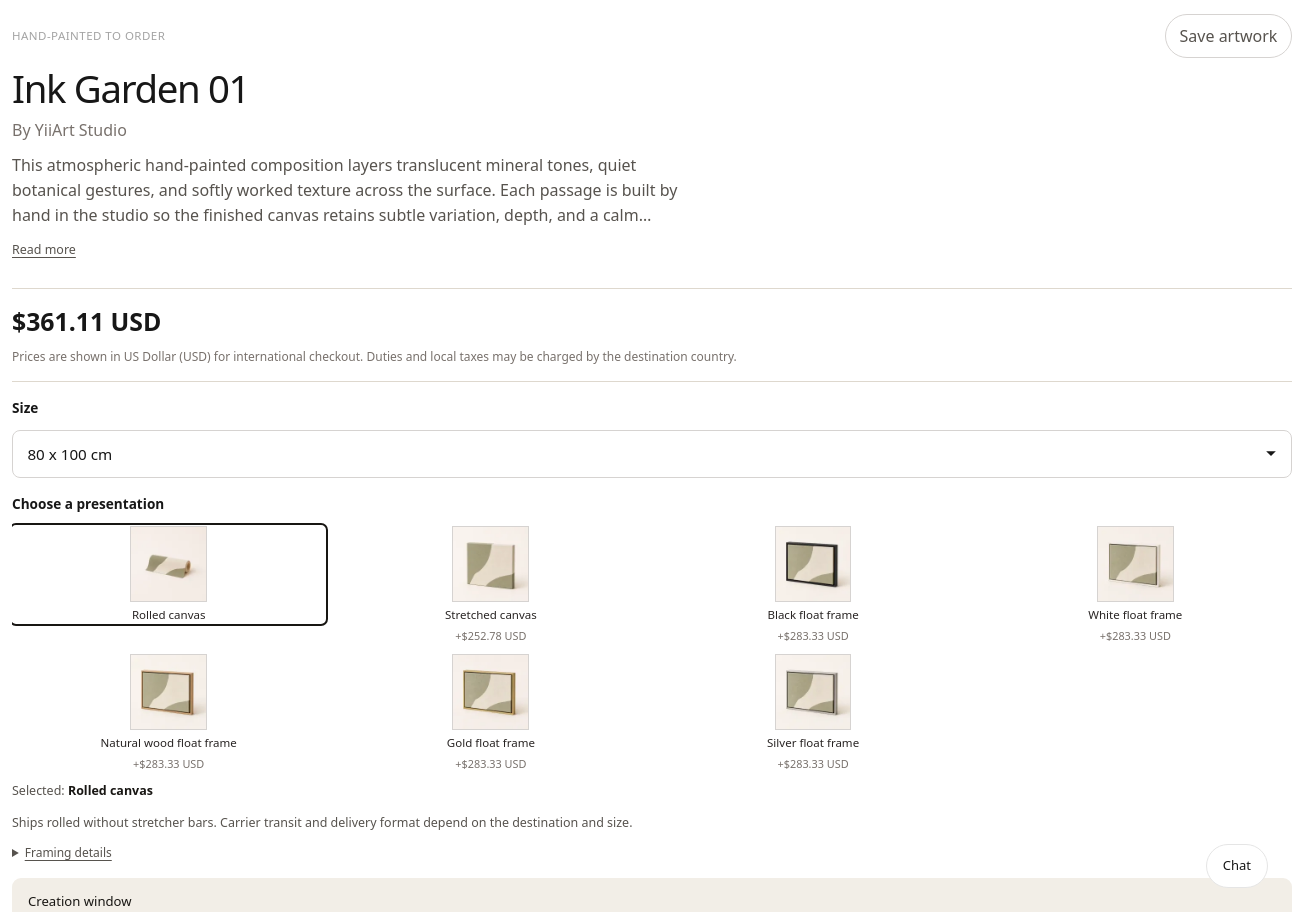
Scenario: purchase overlay integration › expands a long product description with an accessible disclosure control
The image size is (1292, 912).
What coordinates should you click on to do the following:
click the button "Read more"
I would click on:
 (44, 250)
Its box is 12,228 -> 76,272.
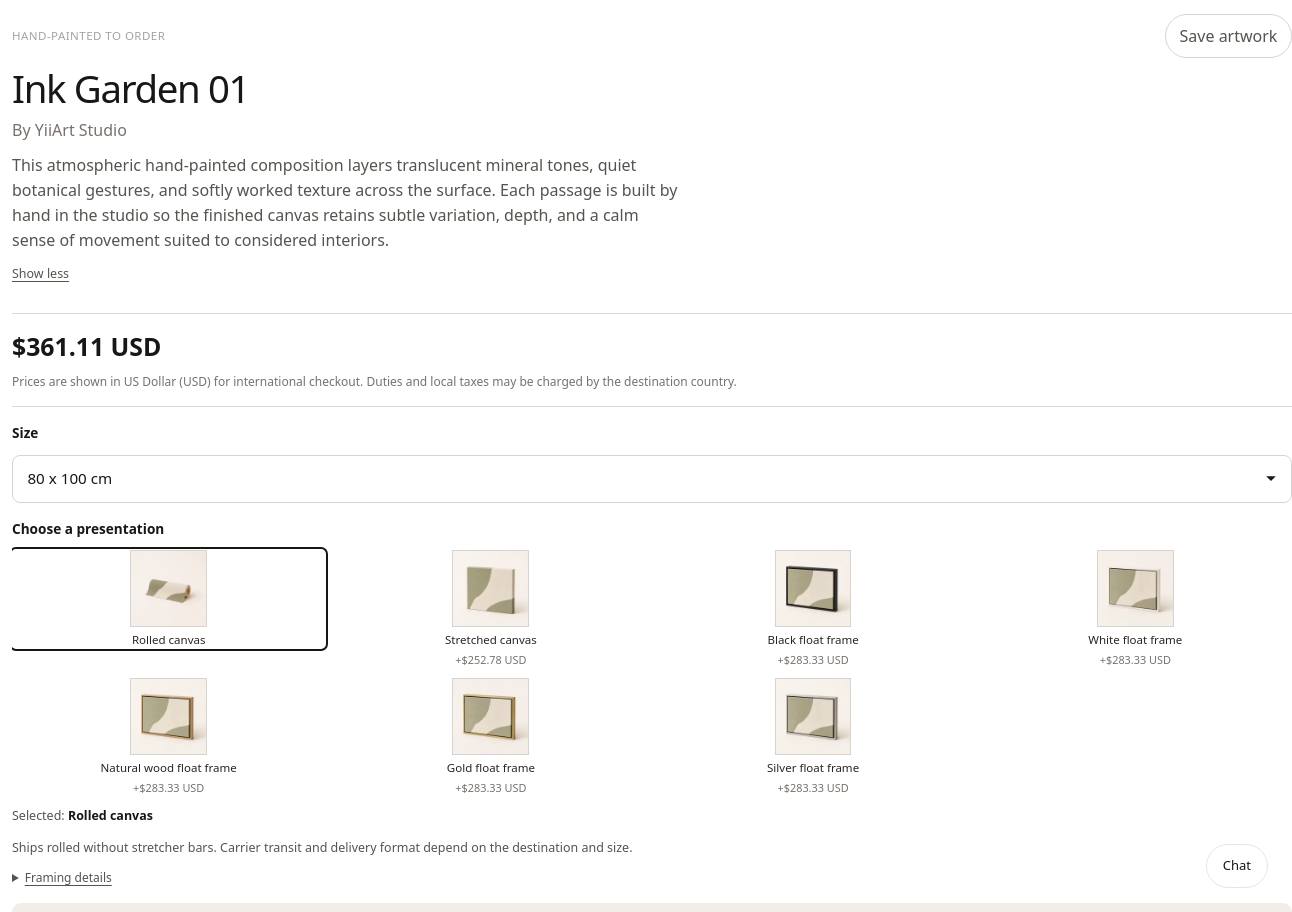
expect the button "Show less" is expanded: met, box 12,253 -> 69,297
